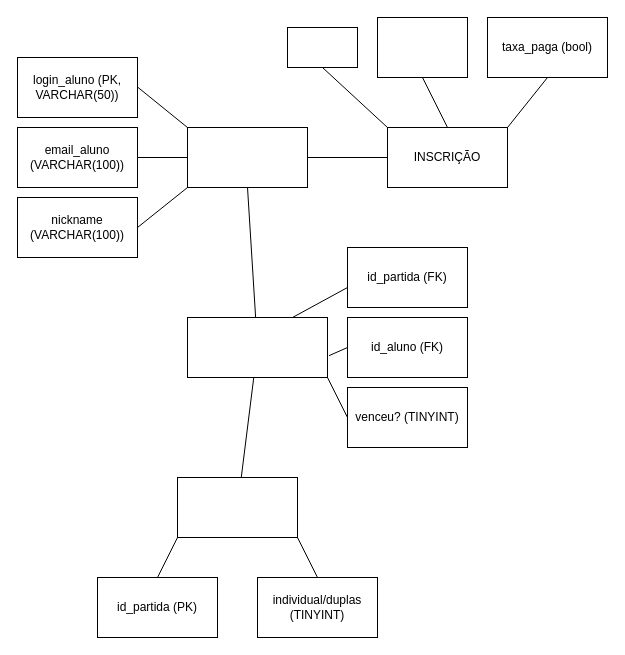
The diagram is 625 pixels wide and 655 high, and some of its shapes have lost their labels. Each missing label, with the centre of its shape:
Aluno_participa_partida: the point at 257,347
Alunos: the point at 247,157
id_aluno (FK int): the point at 322,47
individ/duplas (0=indv, 1=duplas, TINYINT): the point at 422,47
PARTIDA: the point at 237,507
